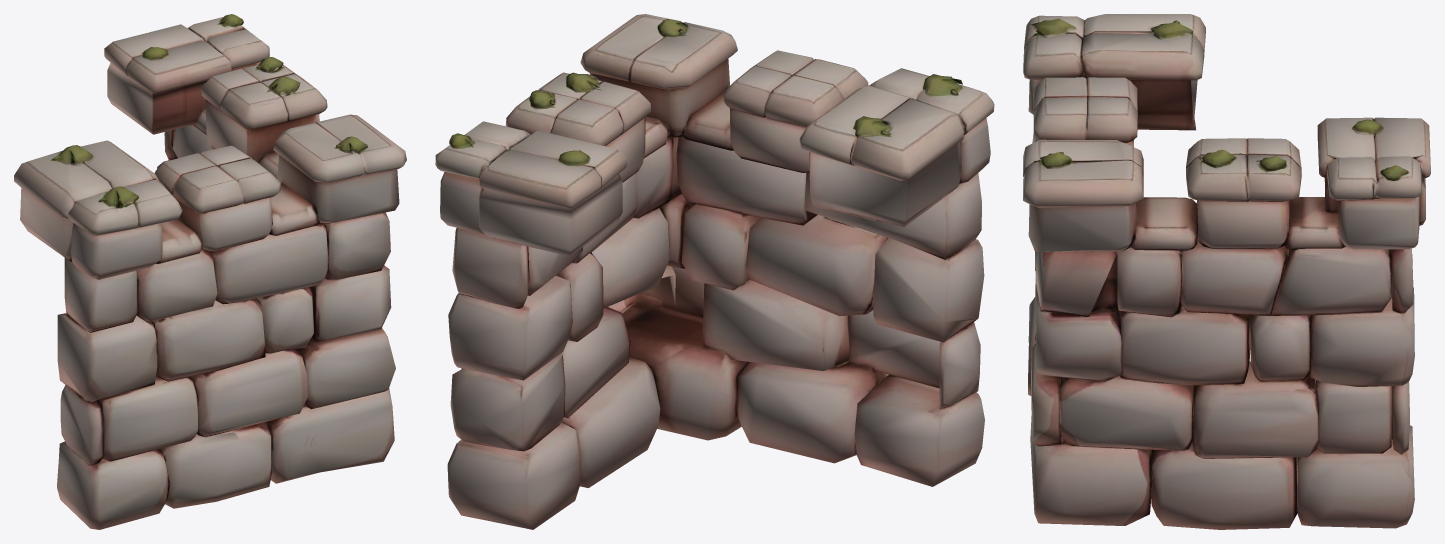
File: wall_stone_a_v1.glb
3 renders of one model, left to right at view 1: azimuth 30°, elevation 25°; view 2: azimuth 150°, elevation 25°; view 3: azimuth 270°, elevation 25°, orthographic. The views are drawn at different scales.
Parts seen in each view (by area): view 1: tripo_node_1535ef3d-e9d8-4ef4-9623-0fd81c82c4ea; view 2: tripo_node_1535ef3d-e9d8-4ef4-9623-0fd81c82c4ea; view 3: tripo_node_1535ef3d-e9d8-4ef4-9623-0fd81c82c4ea.
Boxes of the visible parts, bbox=[...] form: tripo_node_1535ef3d-e9d8-4ef4-9623-0fd81c82c4ea: bbox=[14, 14, 406, 529]; tripo_node_1535ef3d-e9d8-4ef4-9623-0fd81c82c4ea: bbox=[435, 14, 994, 529]; tripo_node_1535ef3d-e9d8-4ef4-9623-0fd81c82c4ea: bbox=[1023, 14, 1430, 529].
Bounding box in the file's own units: 0.998 × 0.998 × 0.998.
Materials: 1 (1 with a texture image).
